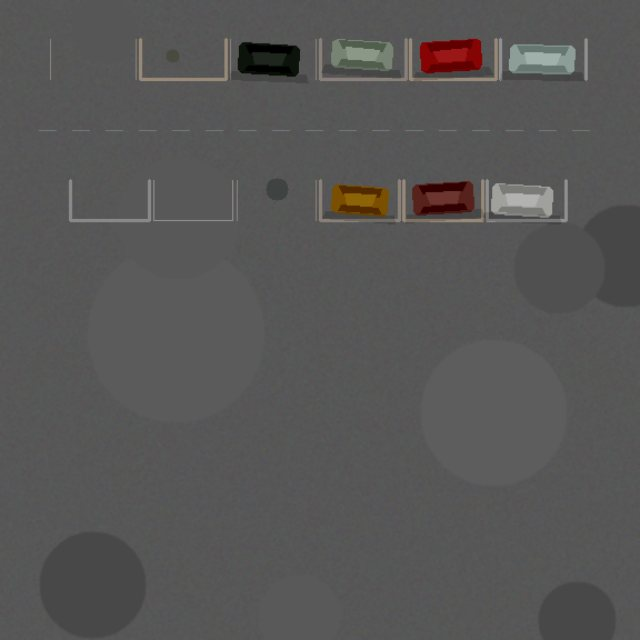space-empty: (50, 39, 136, 79), (140, 39, 226, 79), (70, 180, 149, 220), (153, 180, 232, 220), (237, 180, 316, 220)
space-occupied: (230, 39, 316, 79), (320, 39, 406, 79), (410, 39, 496, 79), (500, 39, 586, 79), (320, 180, 399, 220), (403, 180, 482, 220), (487, 180, 566, 220)
